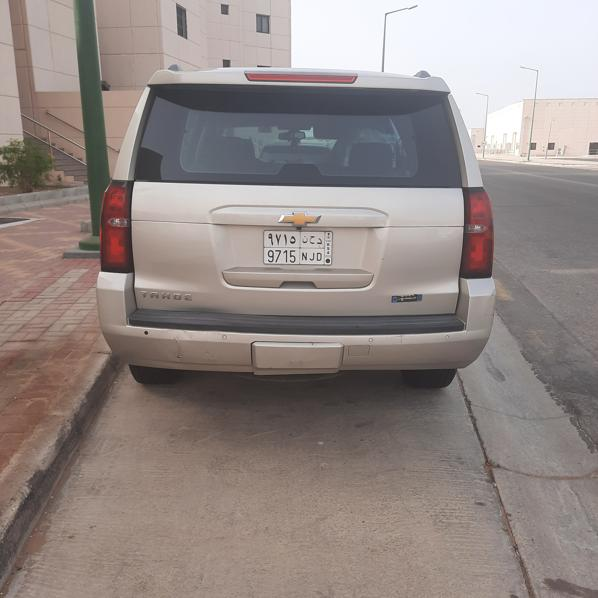numberplate: (263, 229, 334, 266)
